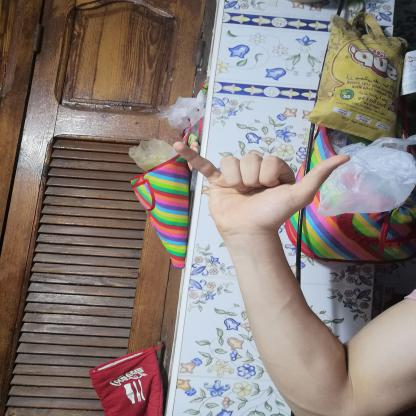YA: (158, 131, 366, 244)
